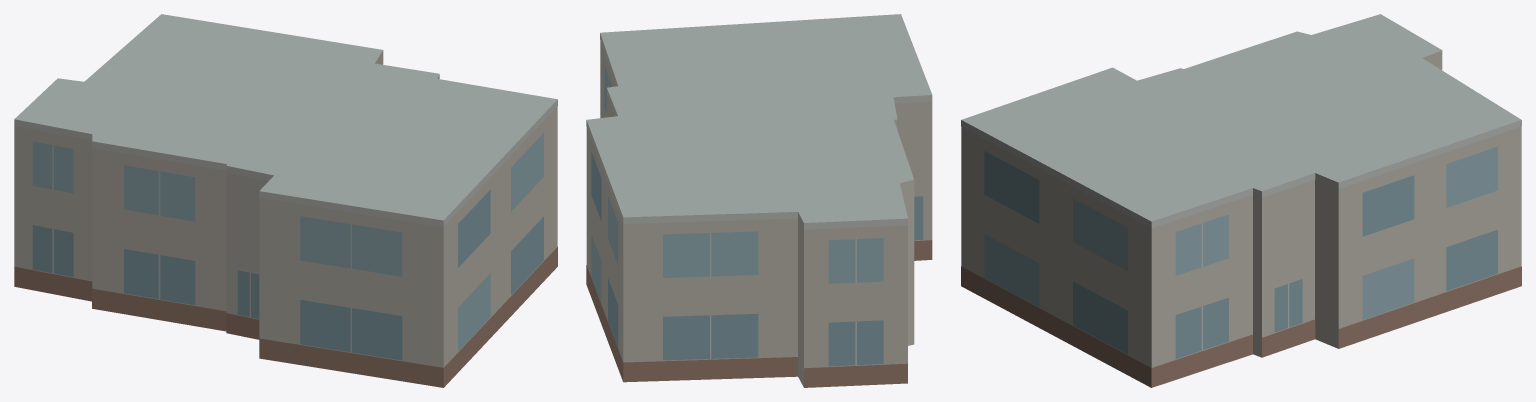
File: survey-upis-32627328.glb
3 renders of one model, left to right at view 1: azimuth 30°, elevation 25°; view 2: azimuth 150°, elevation 25°; view 3: azimuth 270°, elevation 25°, orthographic.
Visible parts, largest first — view 1: survey-upis-32627328.tmp; view 2: survey-upis-32627328.tmp; view 3: survey-upis-32627328.tmp.
Boxes of the visible parts, bbox=[...] form: survey-upis-32627328.tmp: bbox=[14, 14, 557, 387]; survey-upis-32627328.tmp: bbox=[586, 14, 932, 387]; survey-upis-32627328.tmp: bbox=[961, 14, 1521, 387].
Bounding box in the file's own units: 16.34 × 6.1 × 18.64.
